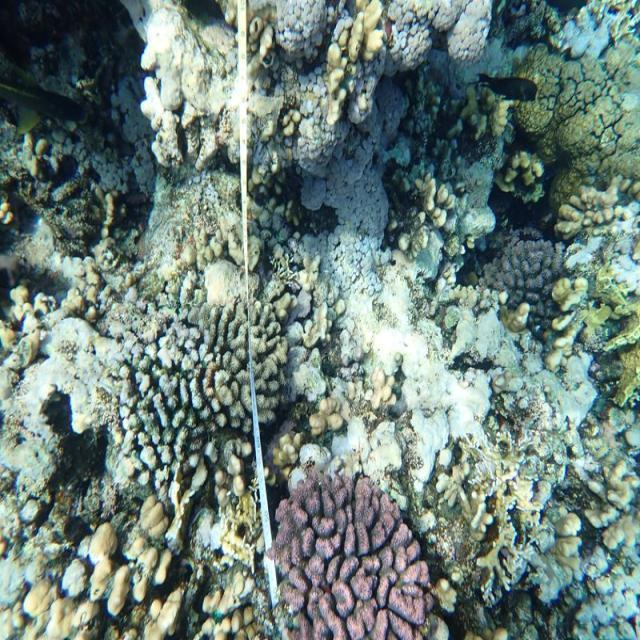Bleached Coral: (295, 60, 492, 498), (35, 287, 204, 479), (545, 528, 640, 640), (546, 0, 613, 69)
Healthy Coral: (272, 496, 434, 640)
